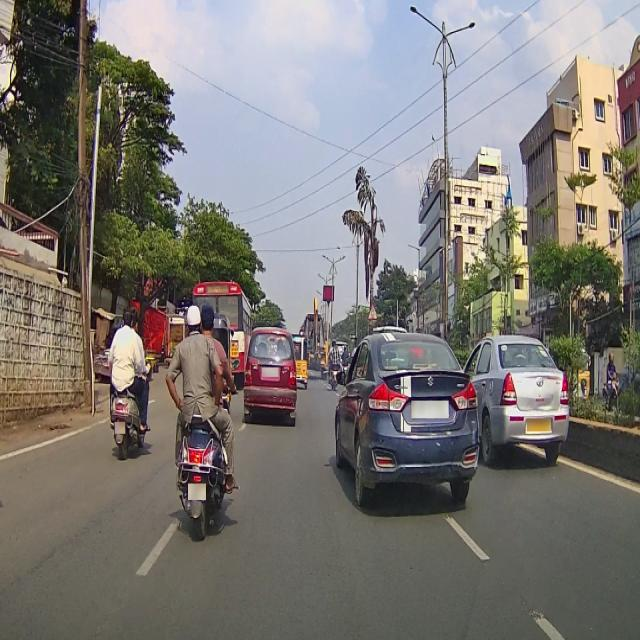car ahead at: (338, 331, 479, 515), (479, 339, 572, 469), (244, 327, 296, 421)
motorcycle ahead at: (168, 416, 238, 542), (105, 389, 151, 457)
